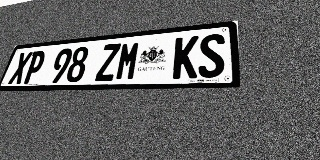8: (65, 46, 91, 82)
9: (48, 48, 74, 83)
K: (172, 36, 199, 79)
M: (114, 41, 141, 81)
P: (22, 50, 47, 84)
S: (198, 33, 225, 78)
X: (8, 52, 33, 84)
Z: (95, 43, 121, 81)
